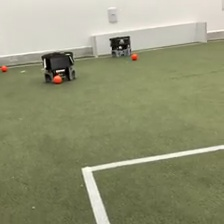ball: (52, 73, 63, 84), (130, 52, 138, 60), (1, 64, 9, 72)
goal: (89, 19, 209, 59)
robot: (40, 49, 78, 84), (109, 33, 133, 57)
